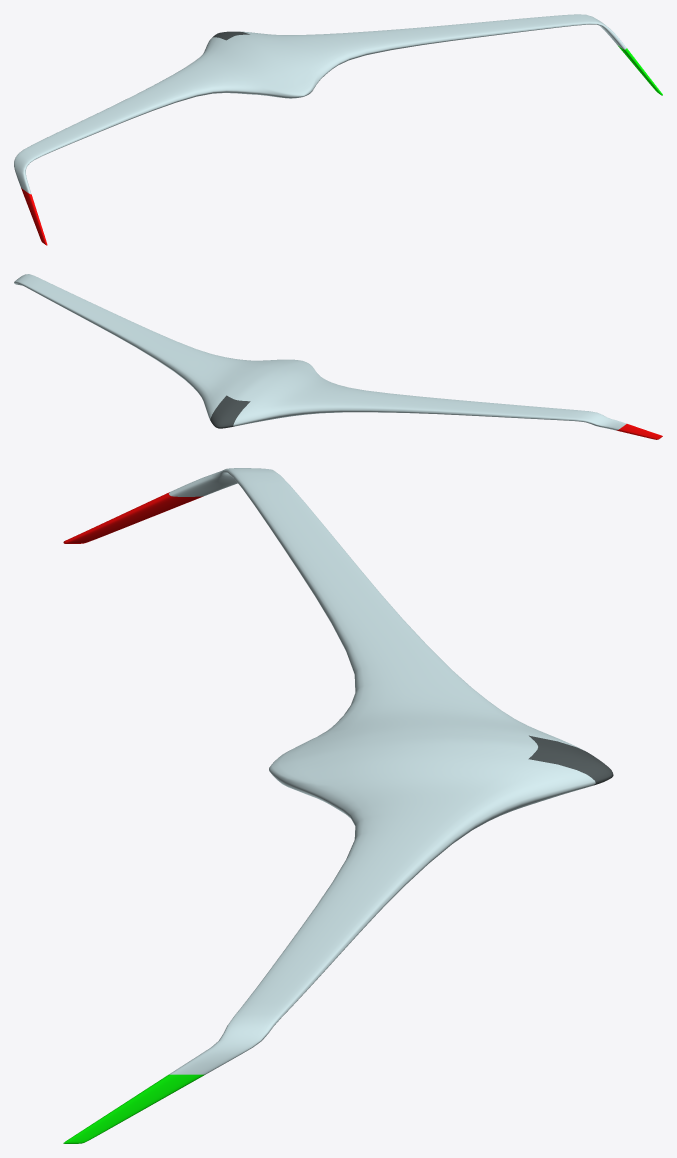
The model's file is eRay.fbx.
3 views of the same model, one above another, from view 1: azimuth 30°, elevation 25°; view 2: azimuth 150°, elevation 25°; view 3: azimuth 270°, elevation 25° (orthographic). The views are drawn at different scales.
Visible parts, largest first — view 1: eray_mesh; view 2: eray_mesh; view 3: eray_mesh.
Part boxes in pixels (box(x1,y1,x2,y2)): eray_mesh: box(14, 14, 662, 245); eray_mesh: box(14, 274, 662, 439); eray_mesh: box(63, 468, 613, 1143).
Bounding box in the file's own units: 275 × 22 × 106.
